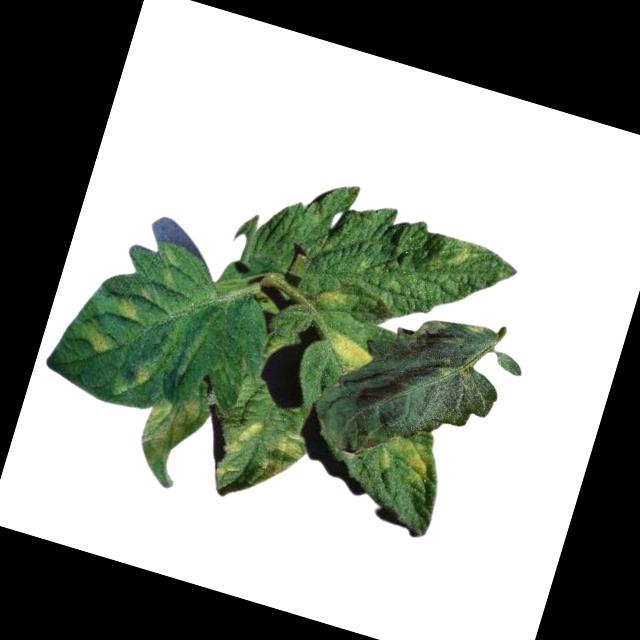Leaf_Mold: (127, 389, 204, 492), (396, 303, 500, 378), (369, 429, 444, 497), (212, 412, 265, 487), (249, 425, 308, 489), (424, 232, 474, 279), (108, 356, 156, 404), (324, 333, 376, 371), (76, 320, 114, 358), (309, 284, 350, 319), (115, 293, 144, 323)
